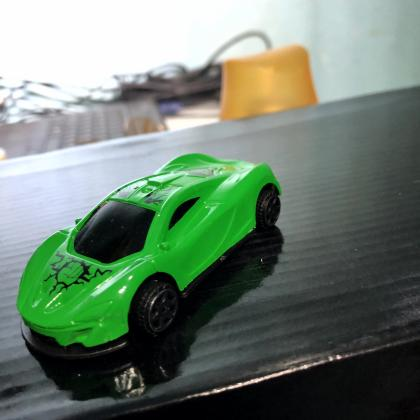Car: (12, 145, 288, 367)
